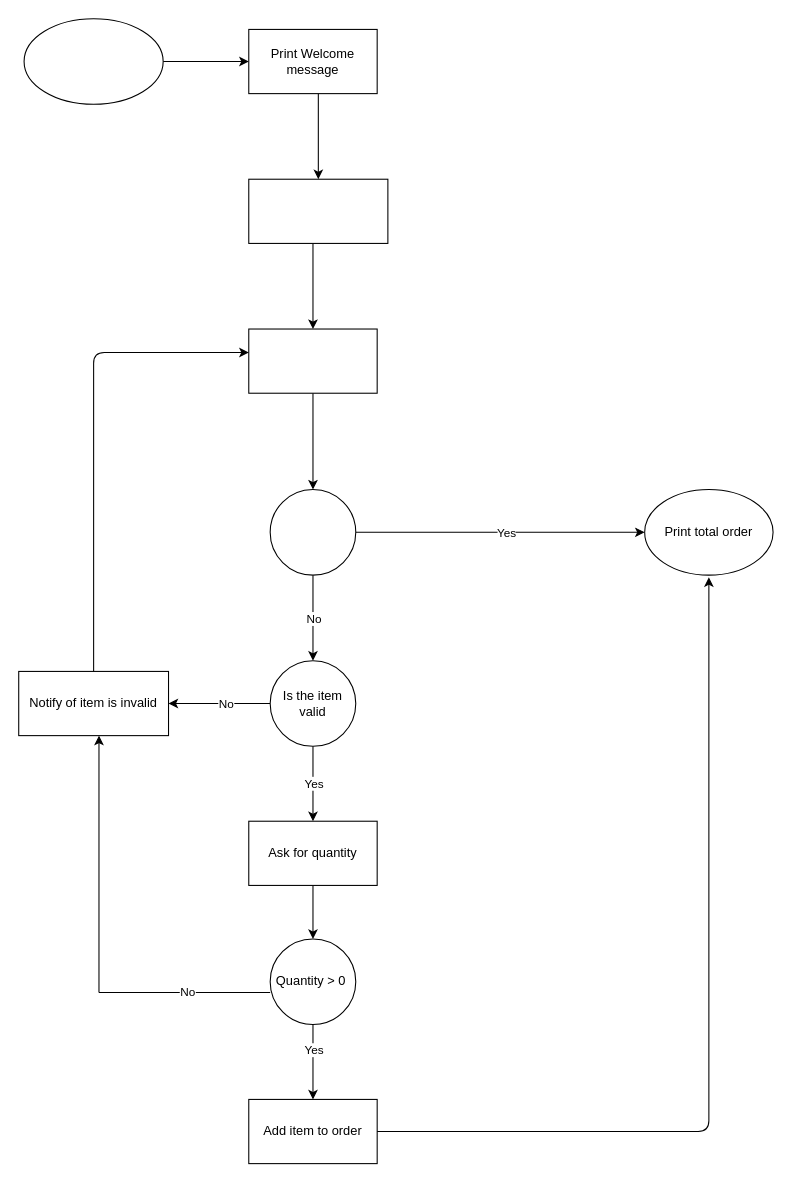
This 792x1182 diagram has some shape labels left out. The shapes that lost their labels are listed below. From the top down, each one's box as (x1, y1, x2, y2) in pixels, then its label:
(23, 18, 163, 104): Covid-19 Survival Kit
(248, 178, 388, 243): Print survival kit menu
(248, 328, 377, 393): Ask for order item
(269, 488, 356, 575): Is the user done
